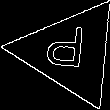P_S: (47, 25, 92, 79)
